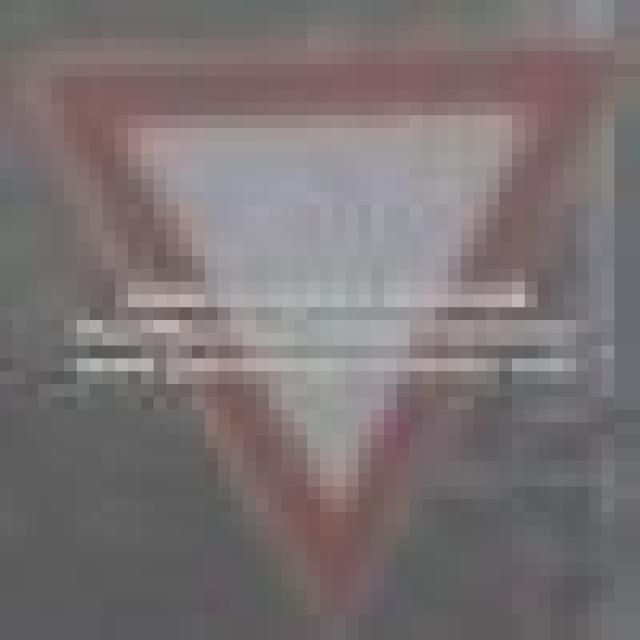gap_in_median: (13, 26, 614, 627)
